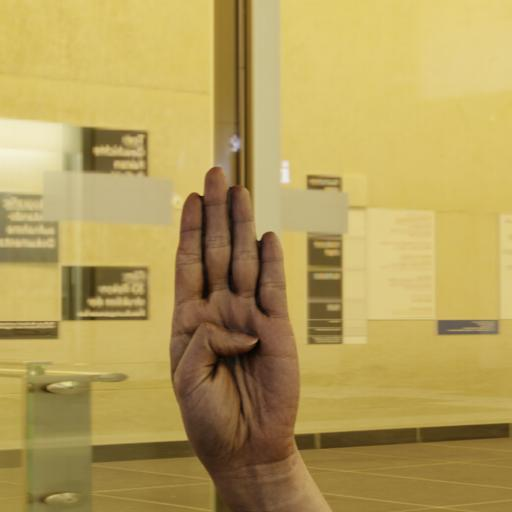B: (150, 156, 318, 466)
